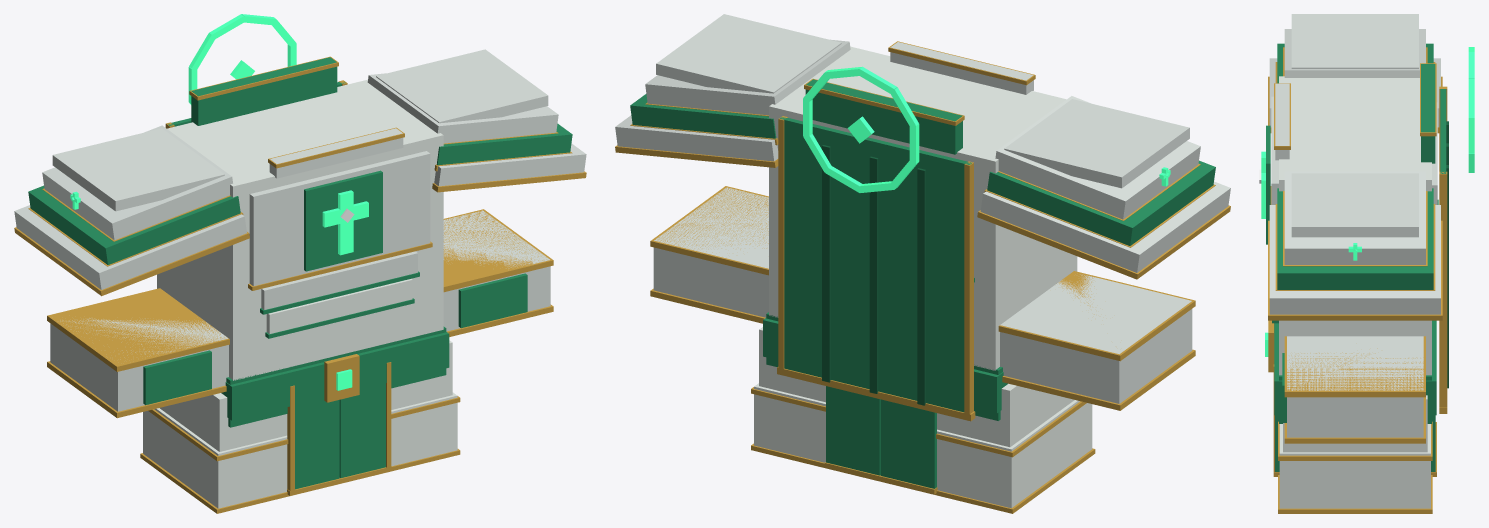
3 views of the same model, side by side, from view 1: azimuth 30°, elevation 25°; view 2: azimuth 150°, elevation 25°; view 3: azimuth 270°, elevation 25° (orthographic). The views are drawn at different scales.
Parts seen in each view (by area): view 1: rank-support-c; view 2: rank-support-c; view 3: rank-support-c.
Part boxes in pixels (left/top/right/bottom): rank-support-c: left=14, top=14, right=586, bottom=513; rank-support-c: left=615, top=14, right=1230, bottom=513; rank-support-c: left=1259, top=14, right=1474, bottom=513.
Size of the model in its own units: 1.27 by 0.996 by 0.4827.
